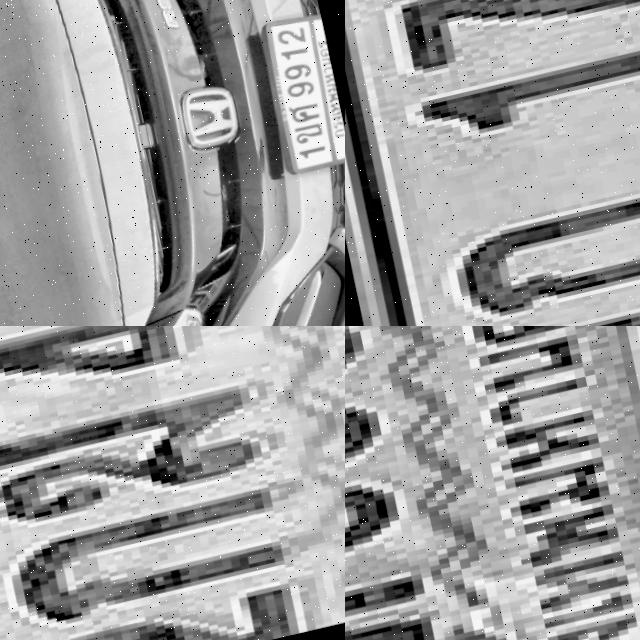license-plate: (0, 326, 345, 640), (345, 0, 640, 326), (345, 326, 640, 640), (257, 7, 345, 177)
